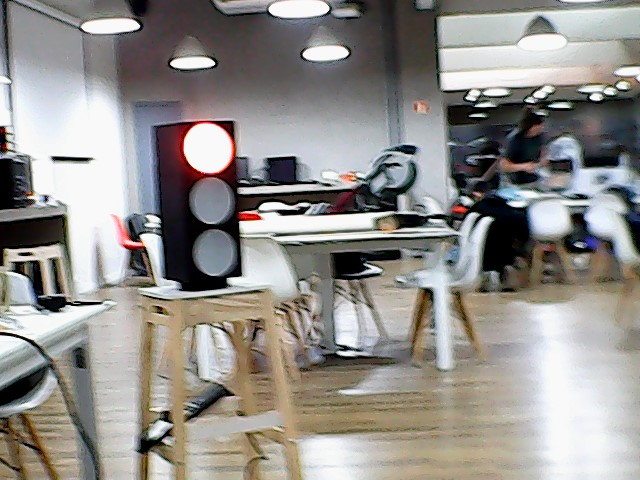vermelho: (149, 121, 248, 282)
